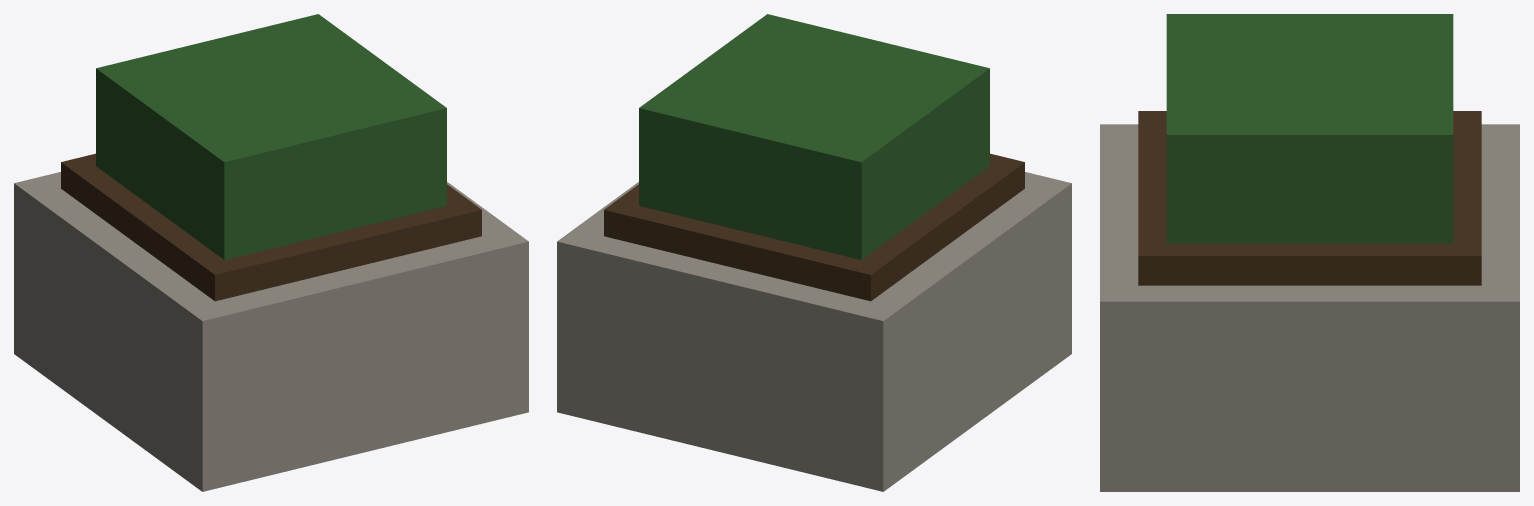
Rendered from concrete_planter_mh.glb.
The picture shows the model from 3 angles, left to right: view 1: azimuth 30°, elevation 25°; view 2: azimuth 150°, elevation 25°; view 3: azimuth 270°, elevation 25°; orthographic projection. The views are drawn at different scales.
Parts seen in each view (by area): view 1: _MeshInstance3D_26, _MeshInstance3D_28, _MeshInstance3D_27; view 2: _MeshInstance3D_26, _MeshInstance3D_28, _MeshInstance3D_27; view 3: _MeshInstance3D_26, _MeshInstance3D_28, _MeshInstance3D_27.
Boxes of the visible parts, x1,y1,x2,y2 form: _MeshInstance3D_26: (14, 172, 528, 491); _MeshInstance3D_28: (96, 14, 446, 259); _MeshInstance3D_27: (61, 153, 481, 301); _MeshInstance3D_26: (557, 172, 1071, 491); _MeshInstance3D_28: (639, 14, 989, 259); _MeshInstance3D_27: (604, 153, 1024, 301); _MeshInstance3D_26: (1100, 124, 1519, 491); _MeshInstance3D_28: (1166, 14, 1453, 243); _MeshInstance3D_27: (1138, 111, 1481, 285).
Bounding box in the file's own units: 1.1 × 0.95 × 1.1.
